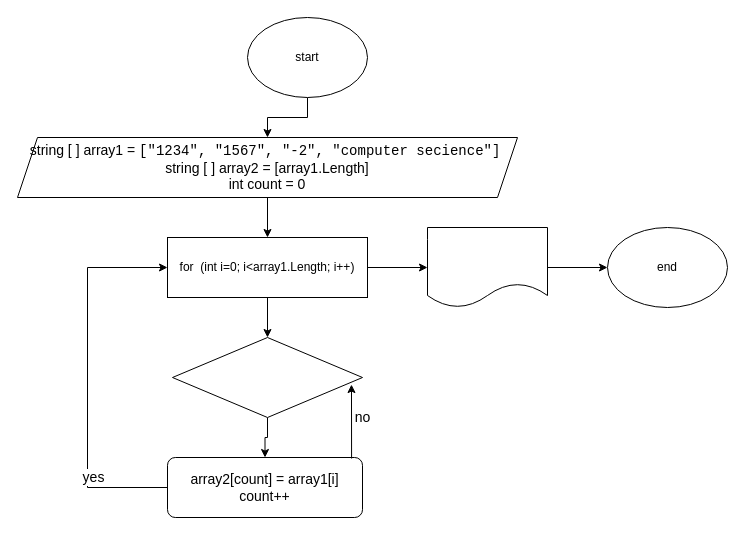
Image size: 745x535. Some labels were removed from this diagram. The shapes that lost their labels are listed below. From the top down, each one's box as (x1, y1, x2, y2) in pixels, then its label:
(426, 226, 548, 308): print array2
(172, 336, 362, 418): if (array1[i].Length<=3)
